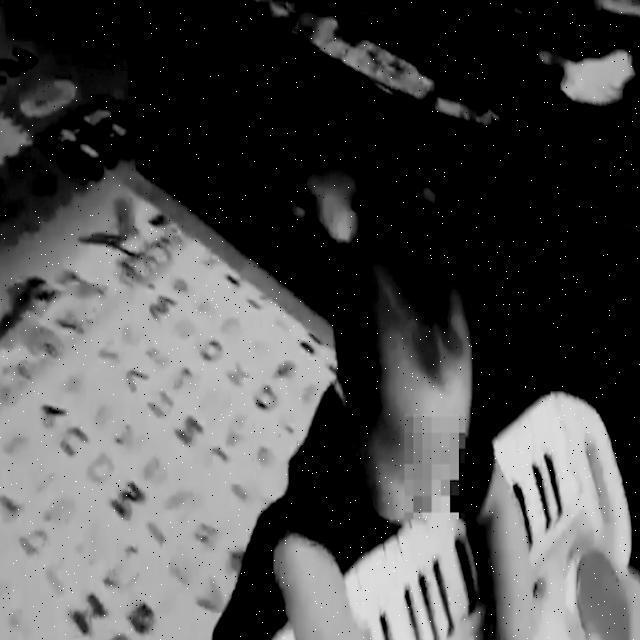child: (210, 205, 537, 640)
